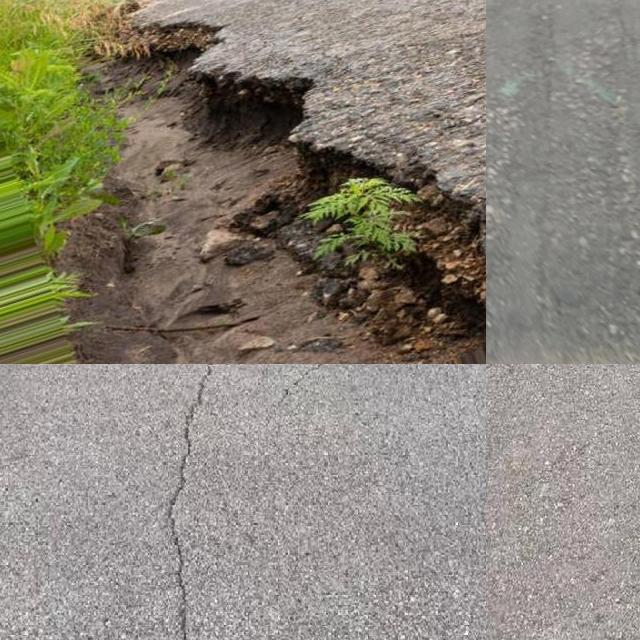Memanjang: (151, 364, 247, 640)
Pinggir: (97, 11, 486, 331)
